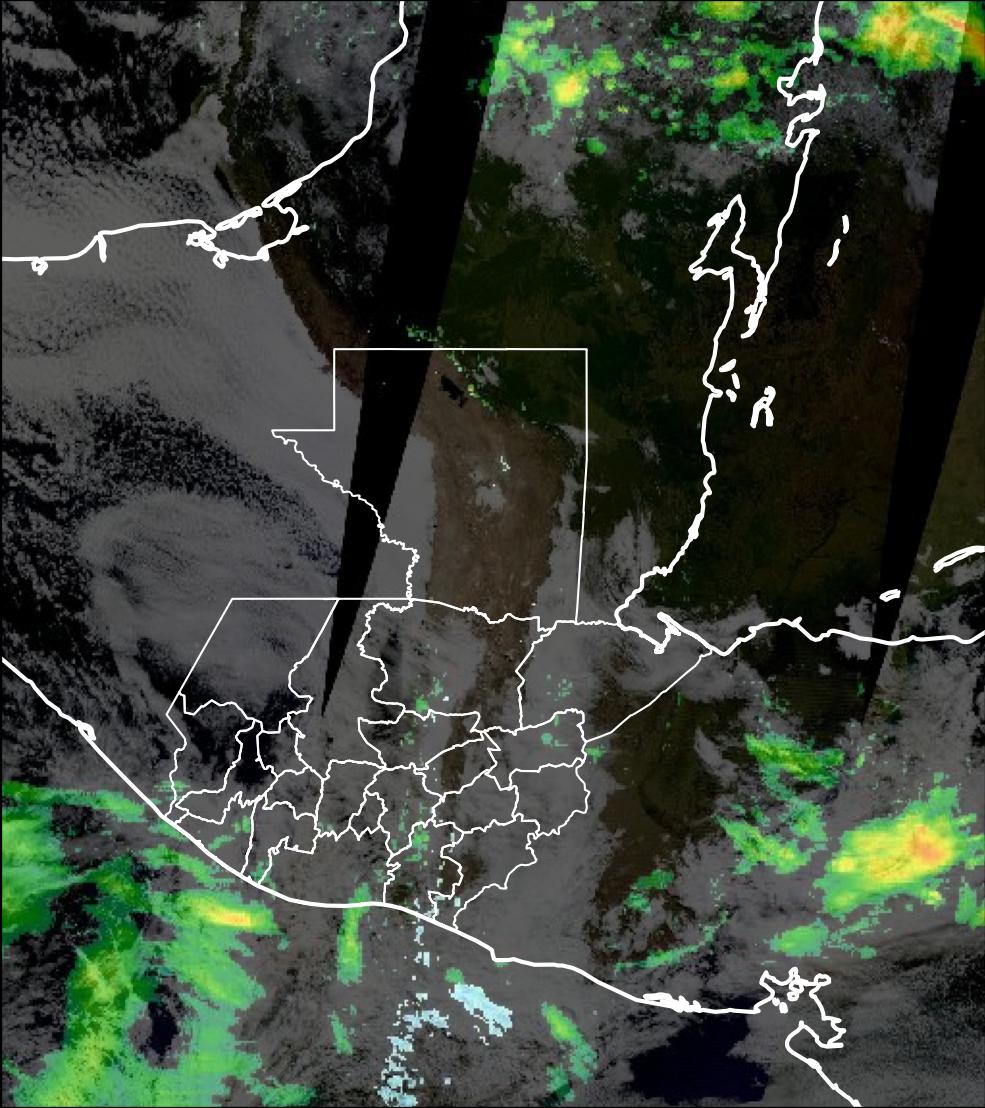precipitacion: (880, 814, 957, 879)
